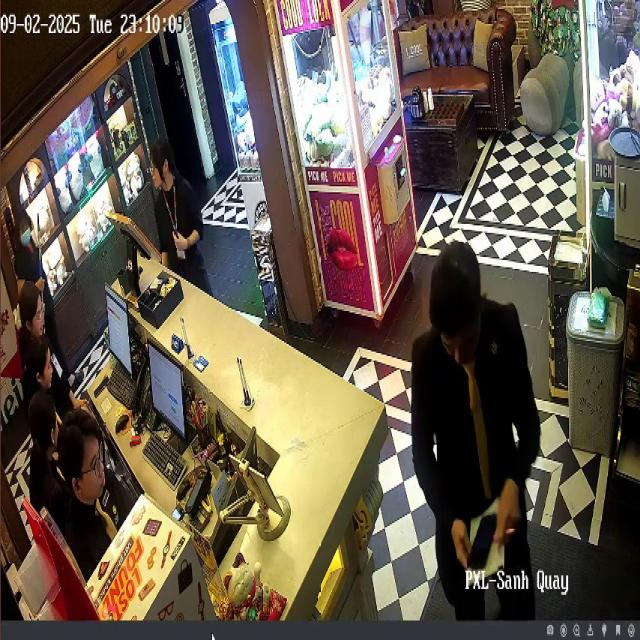nhan vien: (409, 231, 543, 620), (11, 194, 79, 389), (148, 132, 216, 310), (58, 412, 122, 581), (16, 277, 51, 438), (29, 390, 65, 535), (28, 330, 65, 447)
